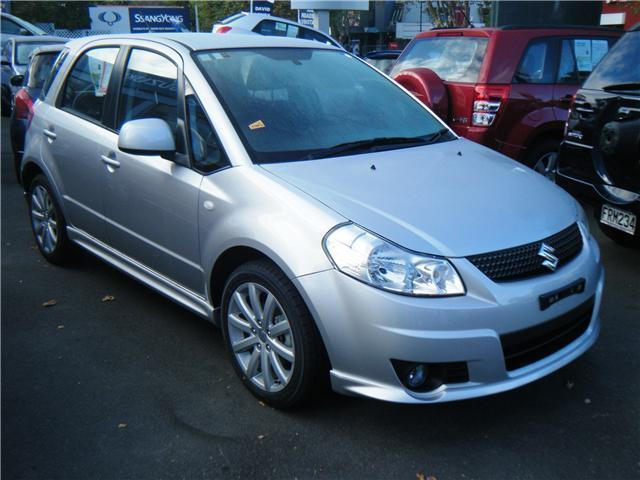suzuki: (533, 240, 567, 275)
